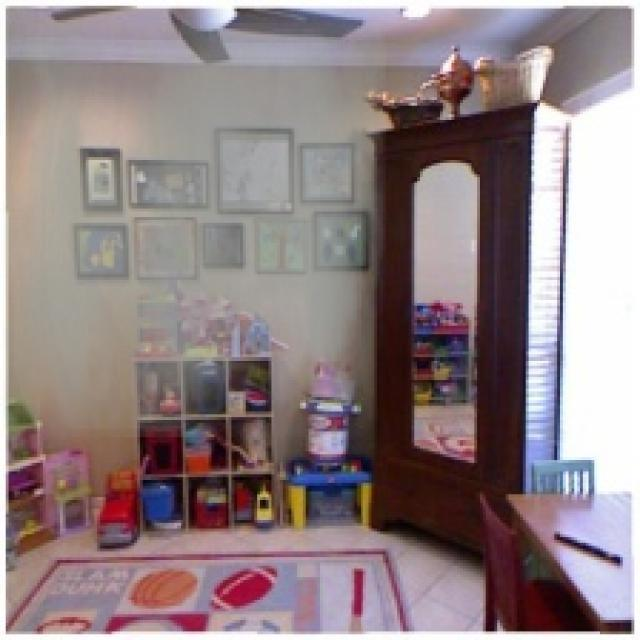Smoke: (3, 22, 386, 438)
